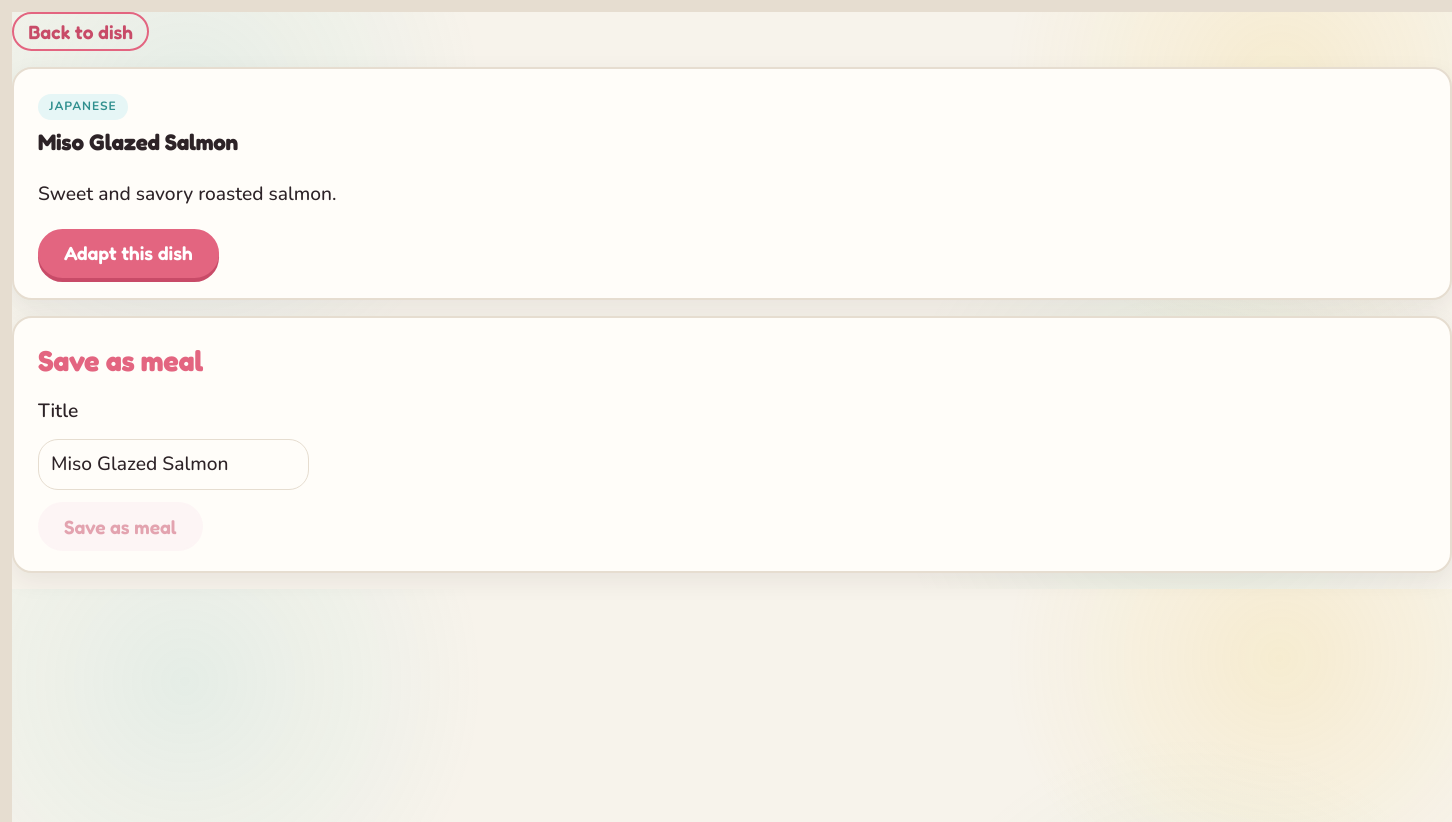
Test: adapt page › renders the adapted recipe heading inside a recipe-card container
Click the button "Adapt this dish" at (128, 253), box left=38, top=229, right=219, bottom=278
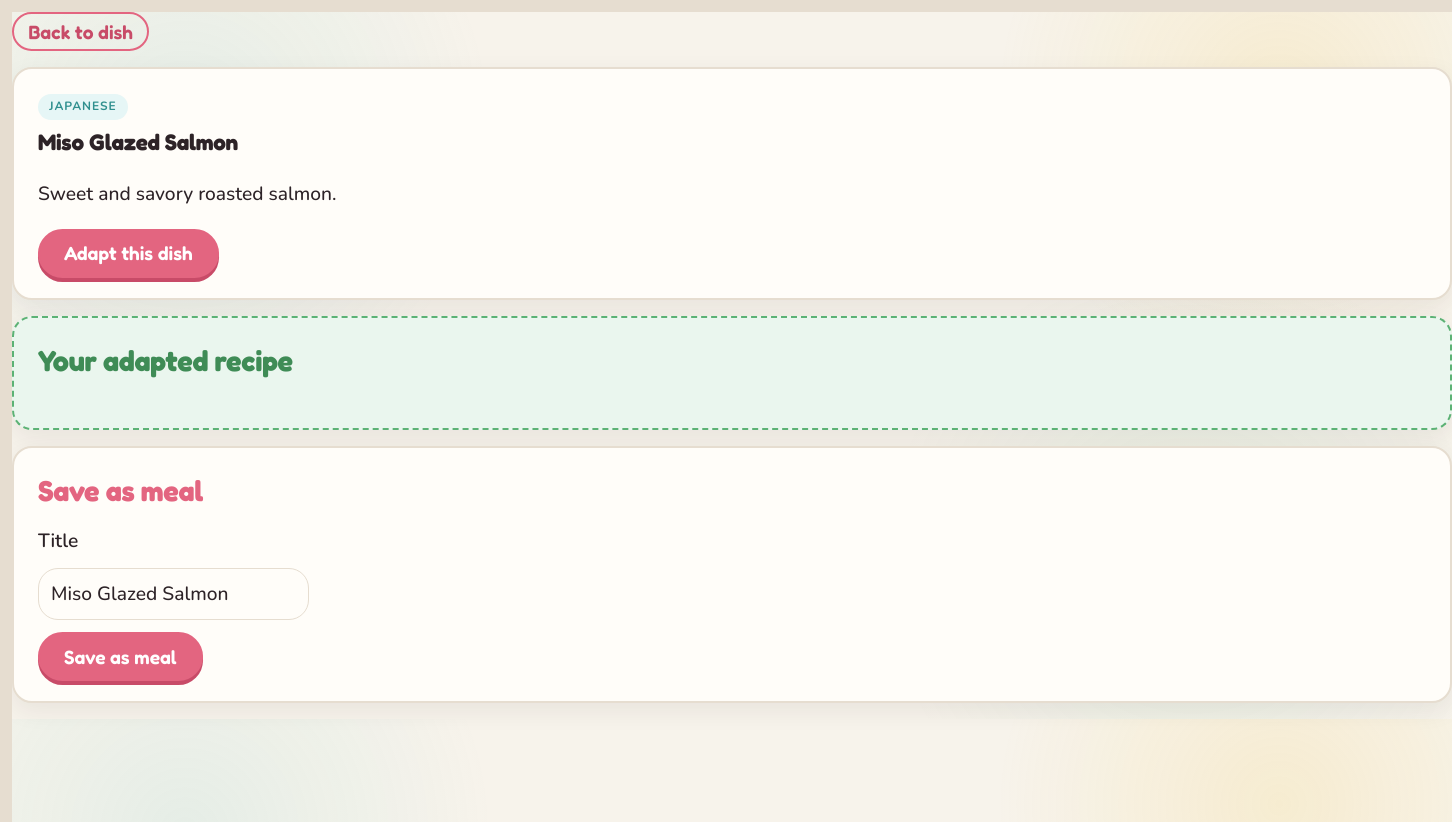
Expected: the element "Your adapted recipe" is shown, left=12, top=316, right=1451, bottom=430
